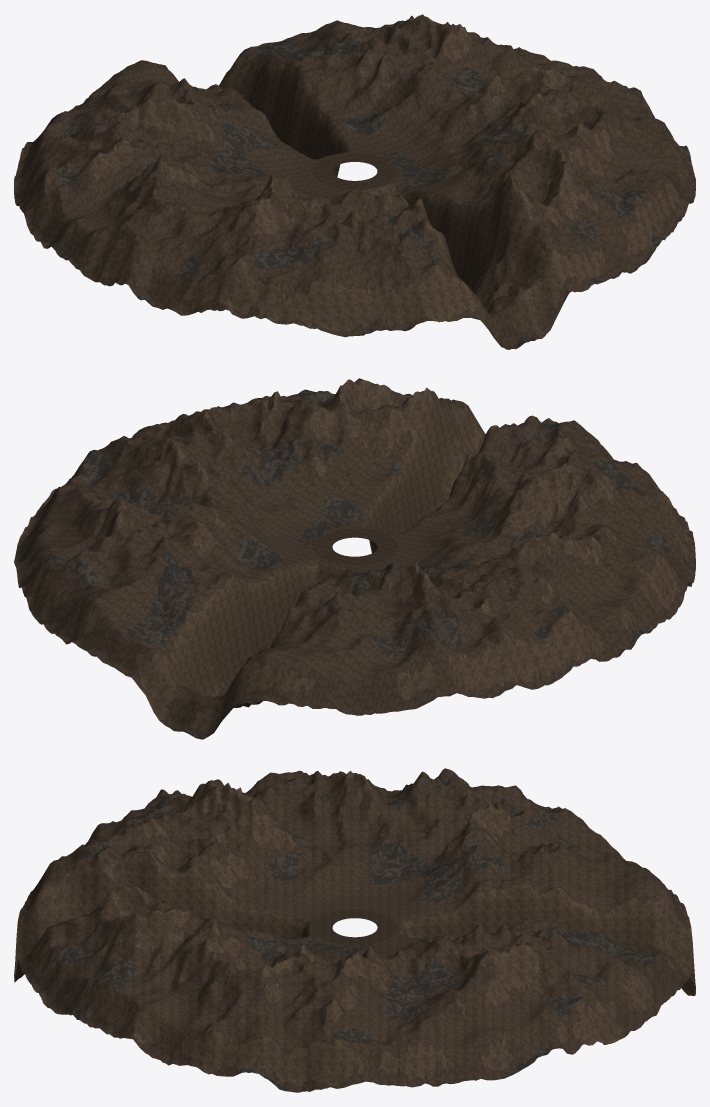
File: backdrop_near_c36_dead.glb
The picture shows the model from 3 angles, top to bottom: view 1: azimuth 30°, elevation 25°; view 2: azimuth 150°, elevation 25°; view 3: azimuth 270°, elevation 25°; orthographic projection.
Visible parts, largest first — view 1: near_land_S, near_land_W, near_land_E, near_land_N; view 2: near_land_N, near_land_W, near_land_E, near_land_S; view 3: near_land_E, near_land_S, near_land_N, near_land_W.
Boxes of the visible parts, x1,y1,x2,y2 form: near_land_S: (266,128,683,349); near_land_W: (14,98,347,318); near_land_E: (357,14,695,216); near_land_N: (25,15,418,176); near_land_N: (26,517,443,739); near_land_W: (353,463,695,698); near_land_E: (14,391,355,597); near_land_S: (281,378,678,553); near_land_E: (115,921,596,1092); near_land_S: (14,806,329,1037); near_land_N: (379,811,695,1044); near_land_W: (129,768,571,916).
Size of the model in its own units: 576 by 168 by 576.
Materials: 3 (3 with a texture image).
